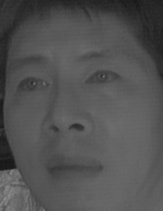eye: (83, 67, 123, 91), (15, 75, 52, 96)
mouth: (42, 149, 104, 185)
